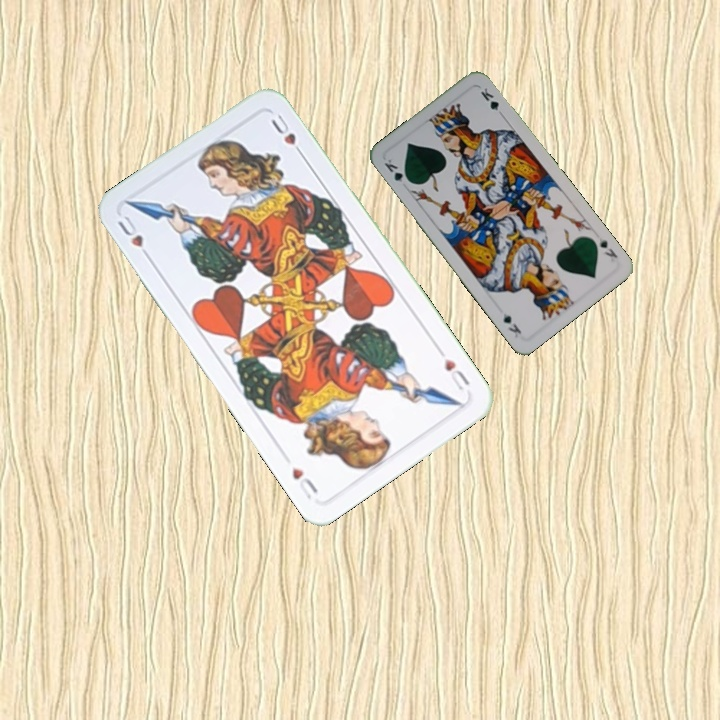GK: (380, 154, 413, 186), (594, 233, 620, 261)
HU: (113, 210, 154, 264), (440, 354, 472, 394)
